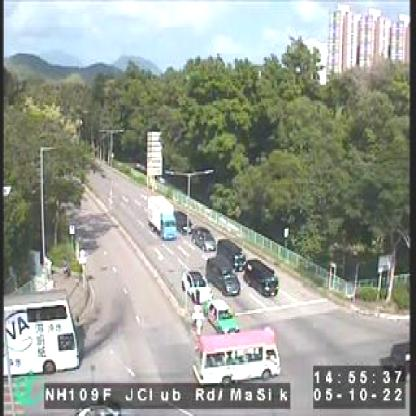Bus: (1, 288, 77, 371)
Car: (206, 257, 240, 294), (245, 258, 278, 295), (202, 300, 236, 331), (178, 270, 212, 300), (217, 239, 245, 269), (192, 226, 214, 252), (174, 210, 191, 232)
Minibus: (192, 330, 280, 382)
Truck: (147, 192, 177, 240)
